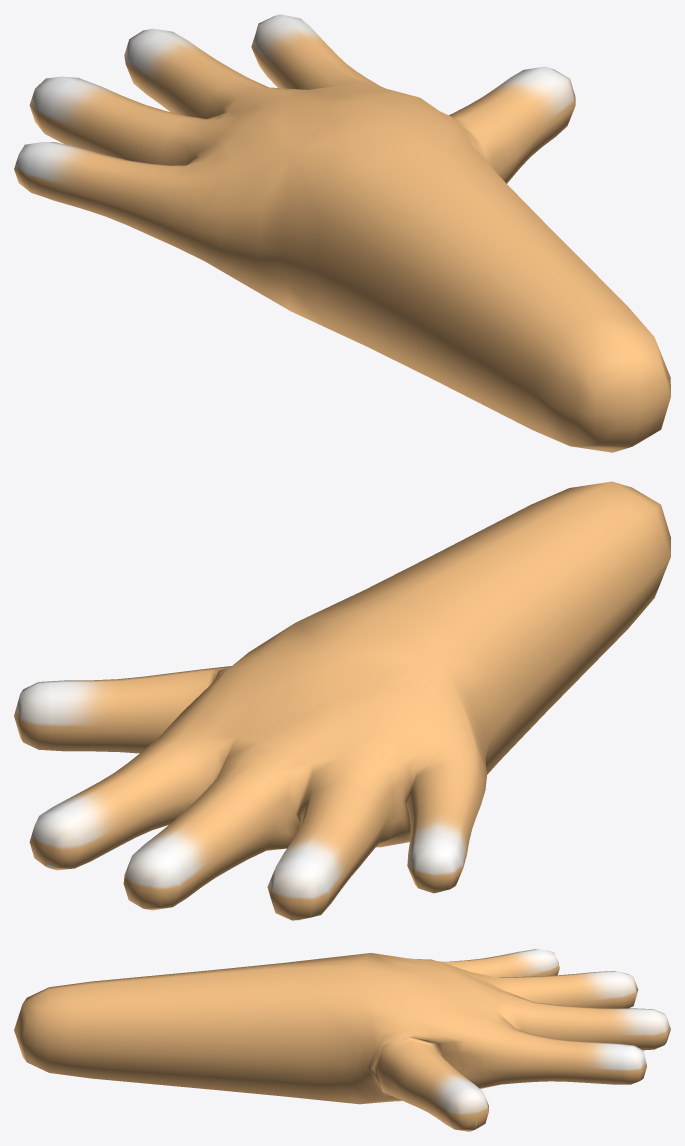
The model's file is handp.fbx.
The picture shows the model from 3 angles, top to bottom: view 1: azimuth 30°, elevation 25°; view 2: azimuth 150°, elevation 25°; view 3: azimuth 270°, elevation 25°; orthographic projection. The views are drawn at different scales.
Parts seen in each view (by area): view 1: Cube; view 2: Cube; view 3: Cube.
Part boxes in pixels (left/top/right/bottom): Cube: left=14, top=14, right=670, bottom=452; Cube: left=14, top=481, right=670, bottom=920; Cube: left=14, top=949, right=670, bottom=1131.
Size of the model in its own units: 83.82 by 31.35 by 146.
Materials: 1 (1 with a texture image).
